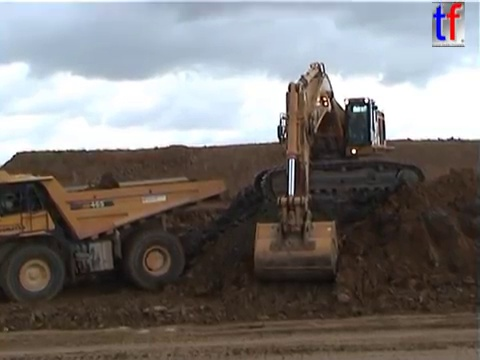excavator: (248, 59, 428, 284)
truck: (1, 167, 229, 306)
